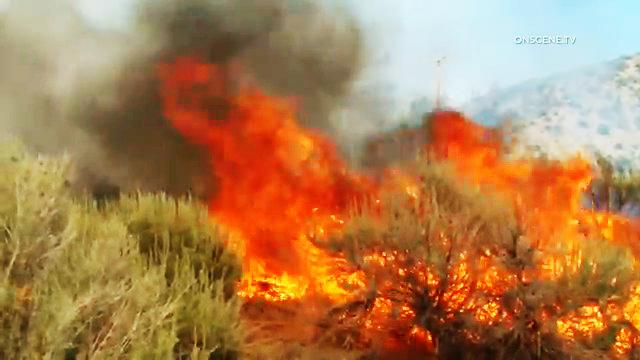fire: (188, 72, 354, 299), (460, 131, 610, 279)
smoke: (137, 2, 373, 73)
